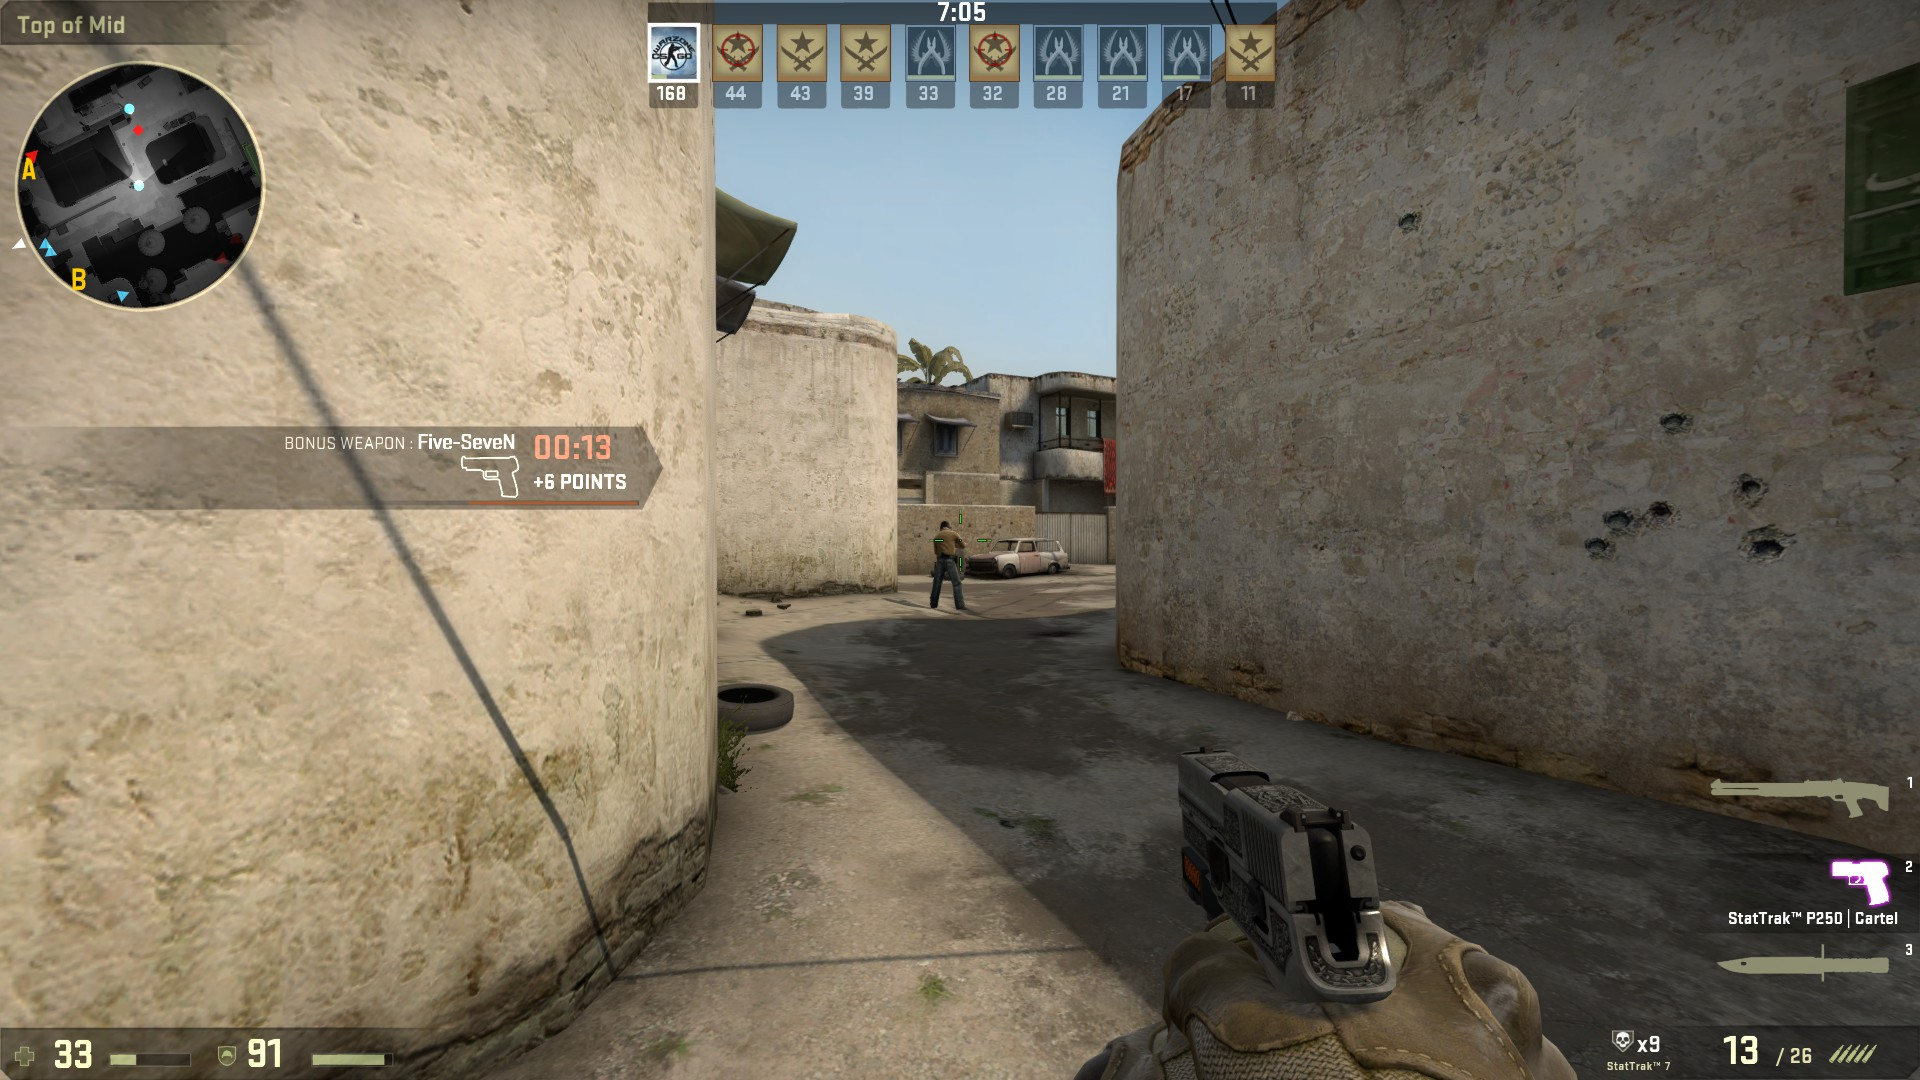t: (927, 520, 967, 611)
th: (934, 517, 953, 535)
